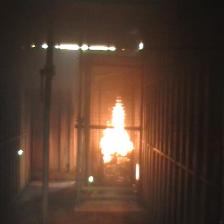fire: (99, 96, 134, 162)
